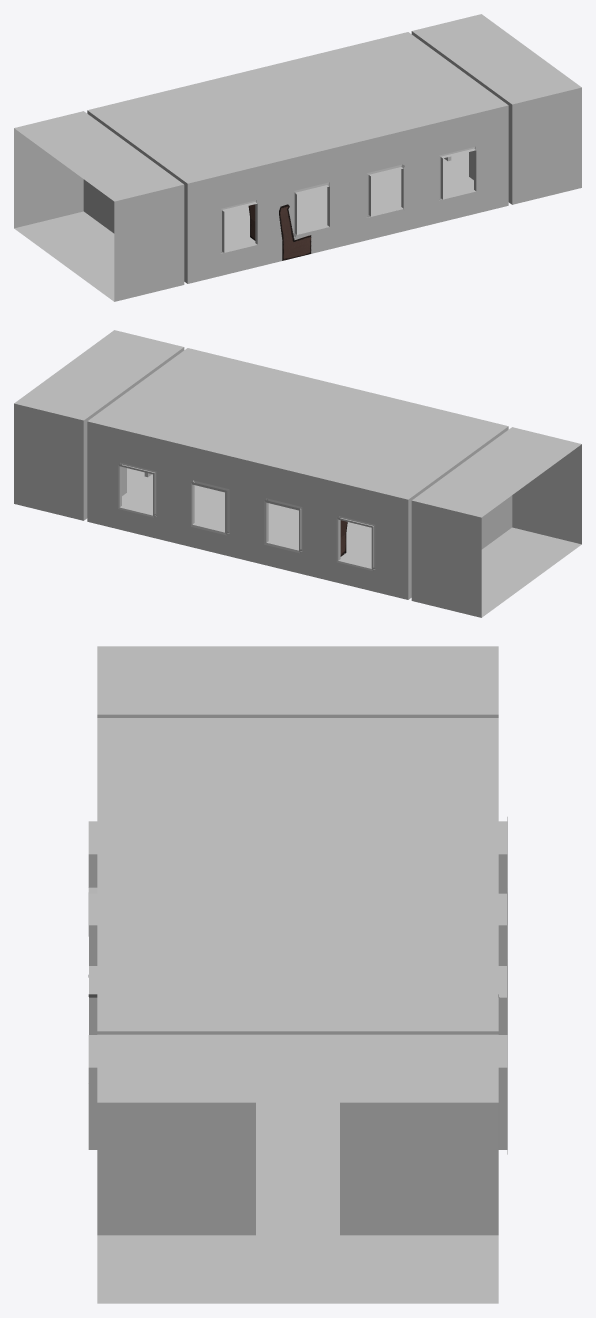
Rendered from wAGON.fbx.
The picture shows the model from 3 angles, top to bottom: view 1: azimuth 30°, elevation 25°; view 2: azimuth 150°, elevation 25°; view 3: azimuth 270°, elevation 25°; orthographic projection. The views are drawn at different scales.
Visible parts, largest first — view 1: Plane, Cube; view 2: Plane; view 3: Plane.
Part boxes in pixels (bbox=[...]): Plane: bbox=[14, 14, 581, 301]; Cube: bbox=[248, 204, 311, 260]; Plane: bbox=[14, 330, 581, 617]; Plane: bbox=[88, 646, 507, 1303].
Bounding box in the file's own units: 1340 × 275 × 520.
